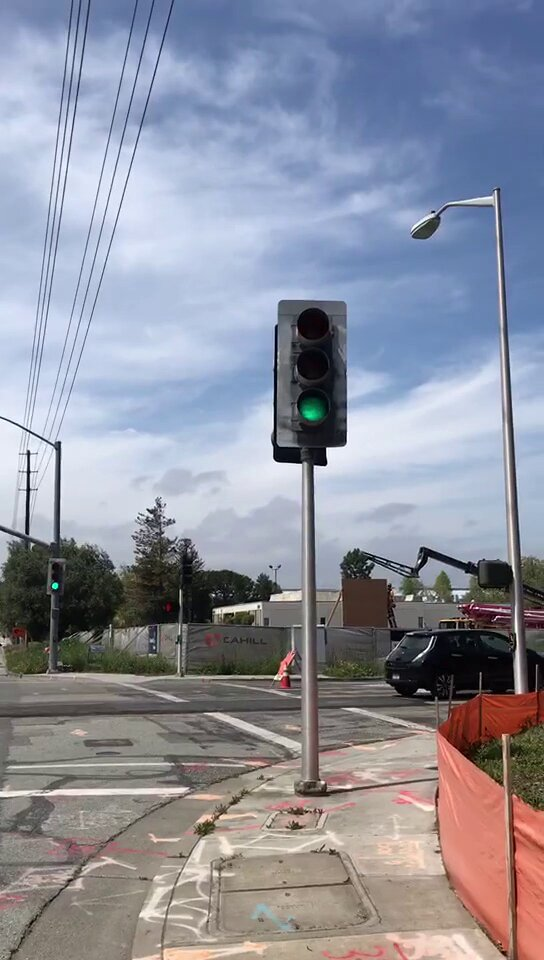green_light: (282, 300, 345, 444), (48, 558, 64, 591)
